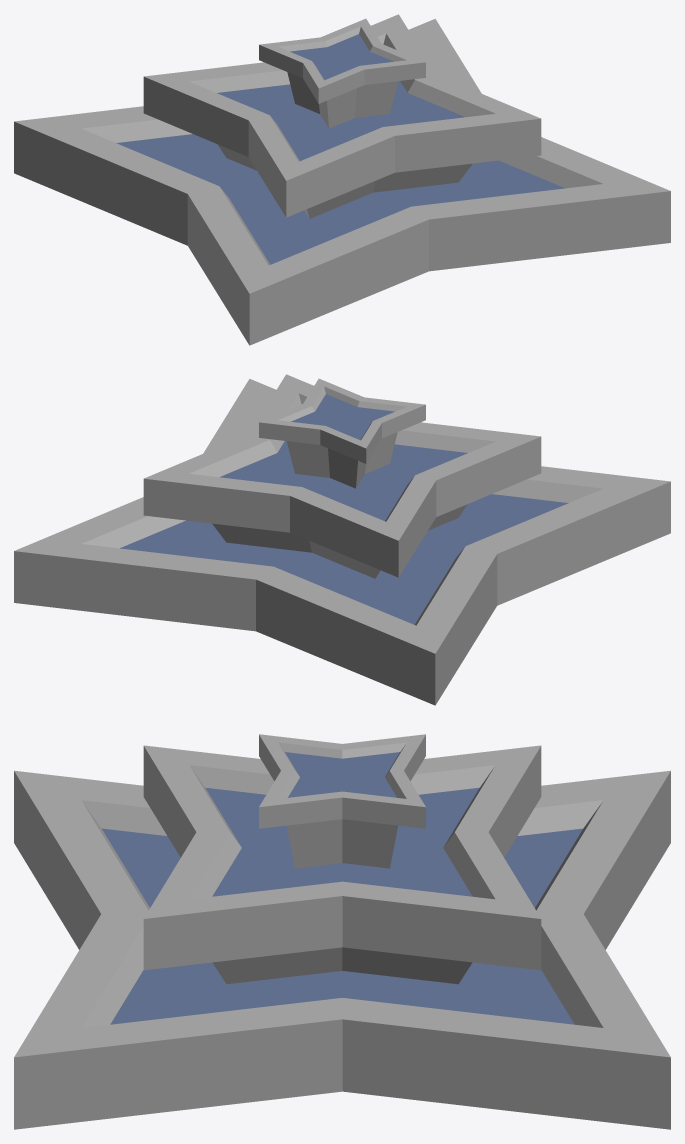
The model's file is fountain3.fbx.
3 renders of one model, top to bottom at view 1: azimuth 30°, elevation 25°; view 2: azimuth 150°, elevation 25°; view 3: azimuth 270°, elevation 25°, orthographic. The views are drawn at different scales.
Parts seen in each view (by area): view 1: Fountain1.003; view 2: Fountain1.003; view 3: Fountain1.003.
Boxes of the visible parts, left/top/right/bottom form: Fountain1.003: left=14, top=14, right=670, bottom=345; Fountain1.003: left=14, top=374, right=670, bottom=705; Fountain1.003: left=14, top=734, right=670, bottom=1129.
Bounding box in the file's own units: 230 × 80.72 × 223.
